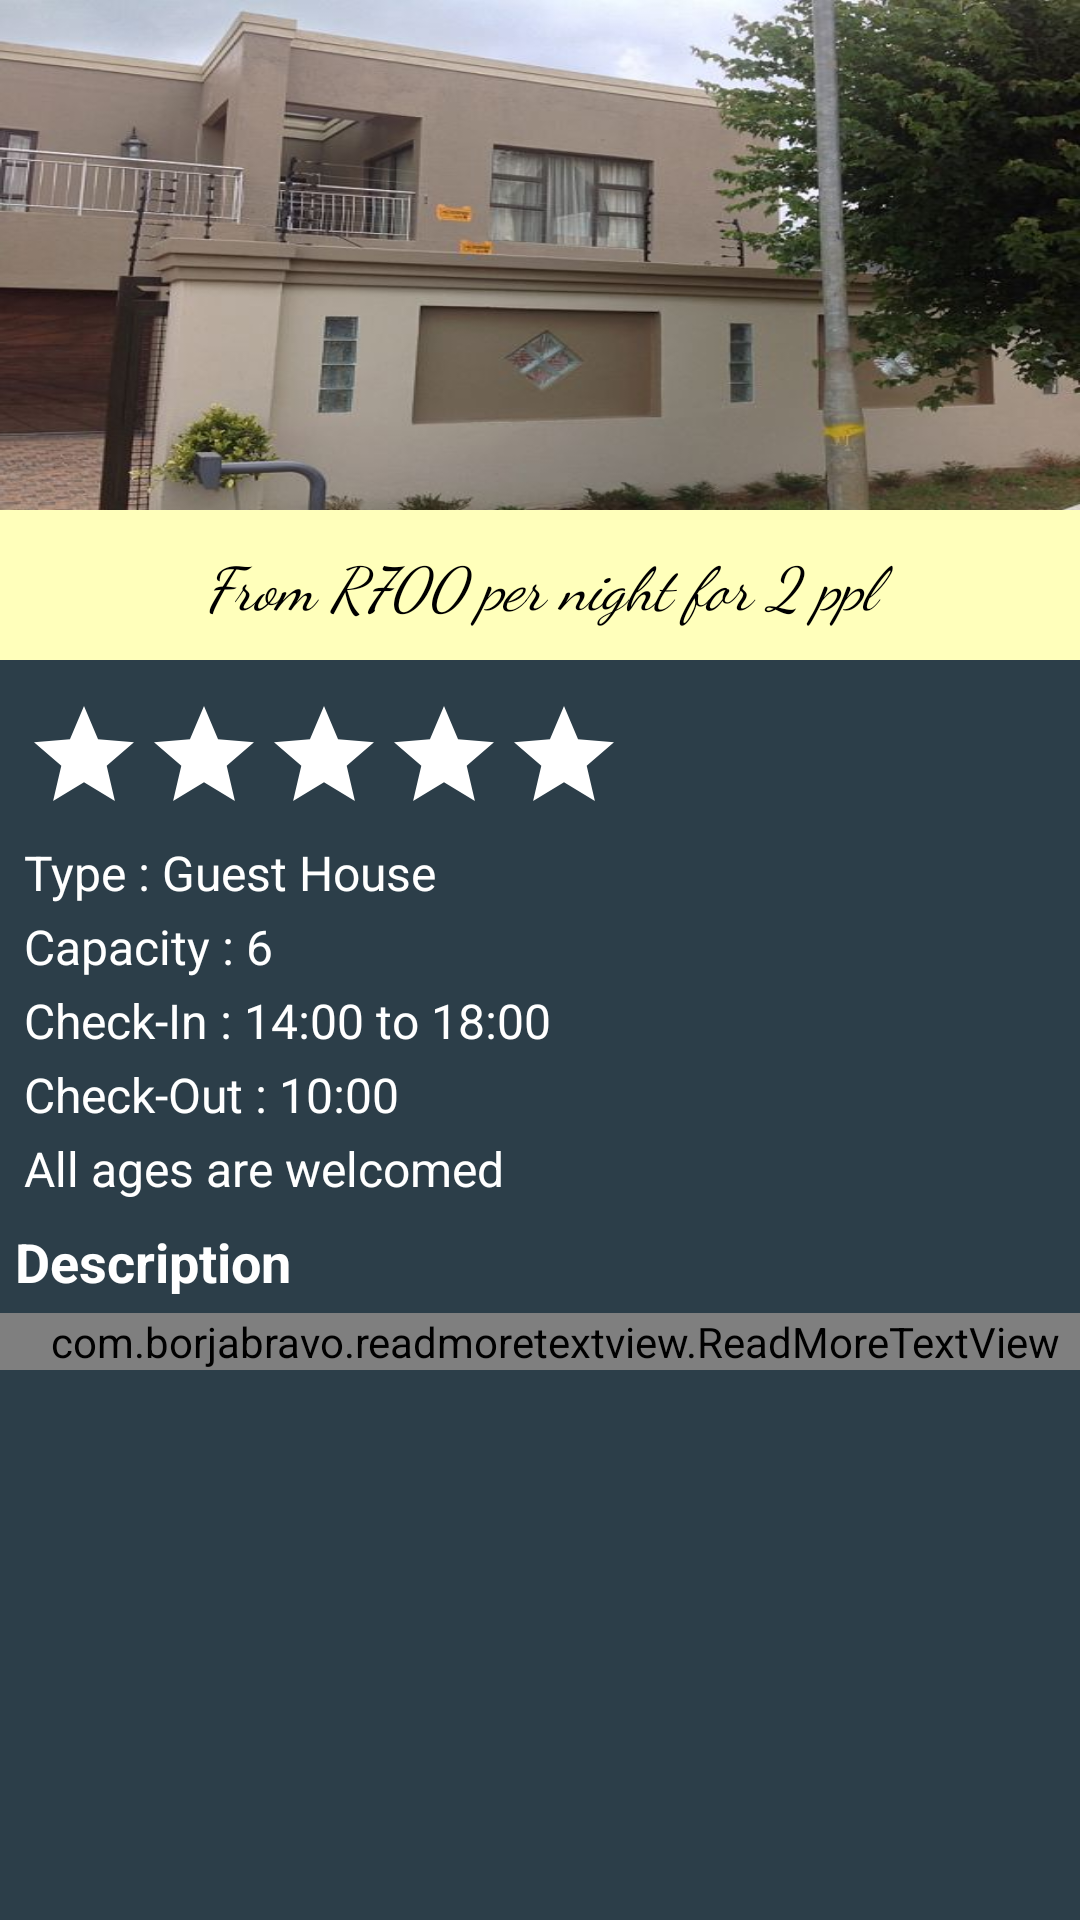

Screen size 1080 x 1920. Icon name, then its center in pixels as point (x, y):
star: point (84, 753), point (204, 753), point (324, 753), point (444, 753), point (564, 753)
